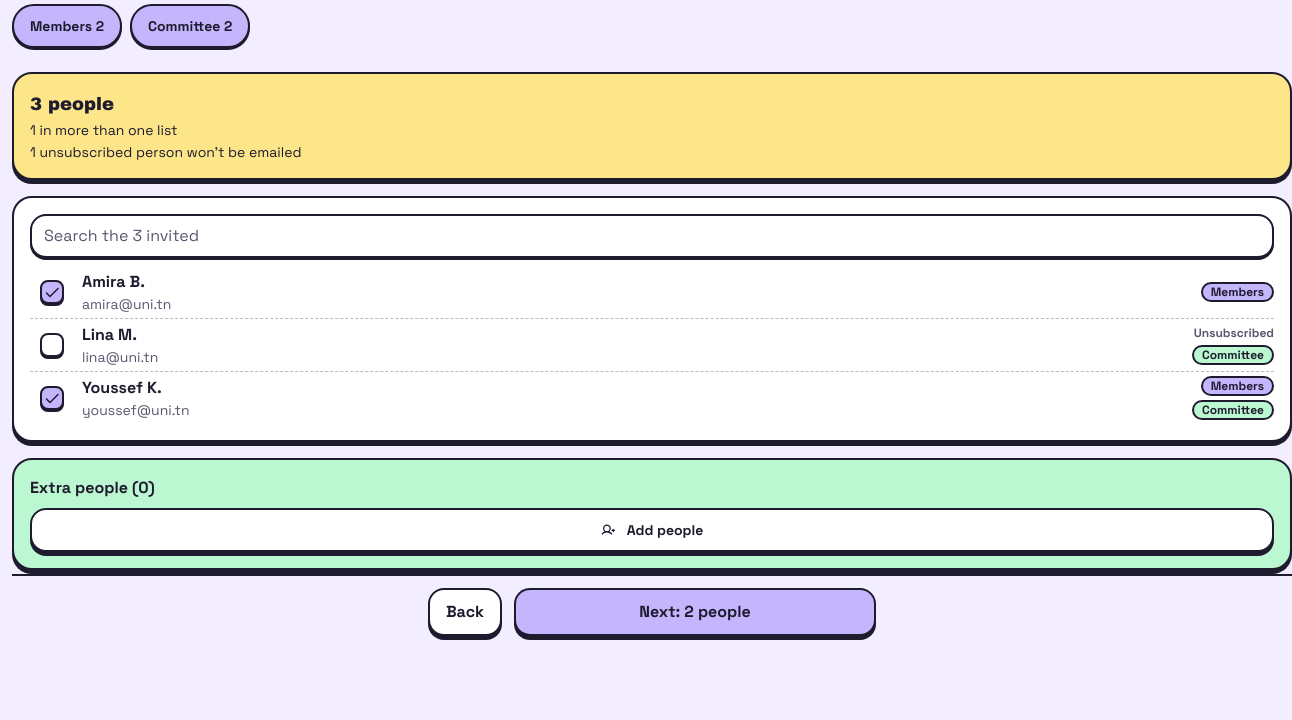
AudienceStep › filters by search, accent-insensitively
The width and height of the screenshot is (1292, 720).
Type "youssef" into the search field at (652, 236), box [30,214,1274,258]
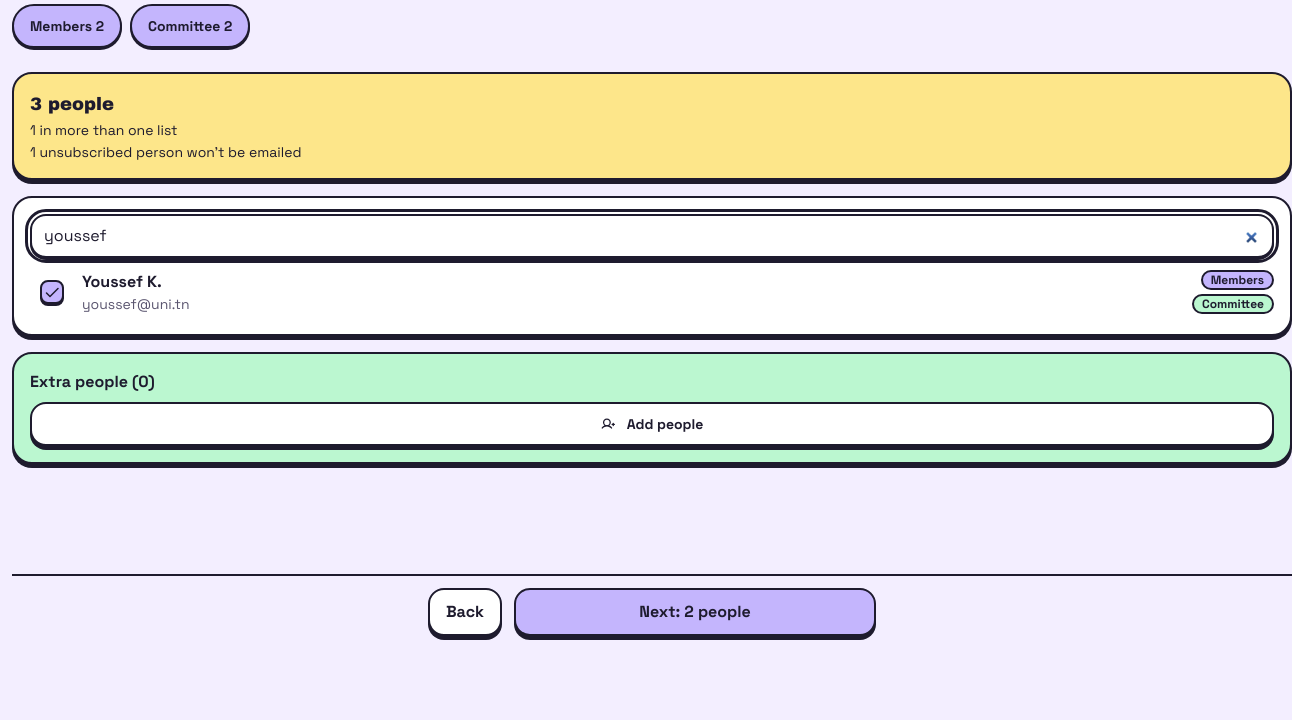
Check: the text "Youssef K." is shown, box [82,271,162,292]
Check: the text "Amira B." is gone
